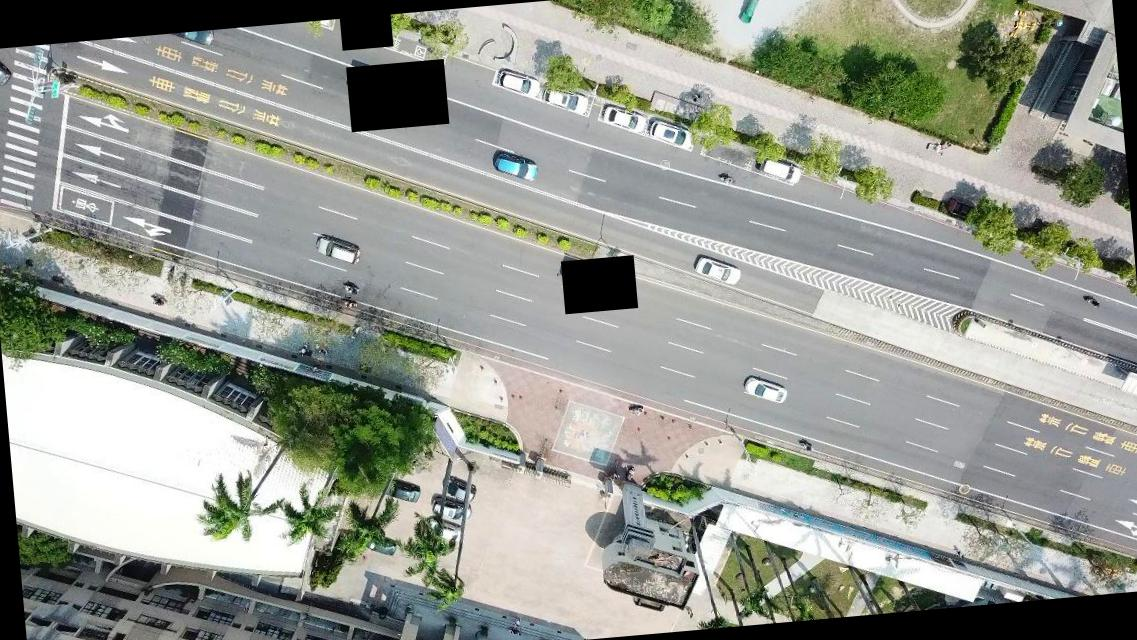vehicle: (694, 251, 738, 288), (598, 102, 645, 136), (646, 116, 692, 150), (742, 372, 786, 407), (758, 153, 802, 188), (492, 148, 534, 184), (544, 82, 588, 116), (315, 232, 358, 266), (496, 68, 538, 99), (428, 496, 470, 524), (425, 516, 465, 545), (440, 474, 476, 506), (168, 30, 214, 54), (382, 480, 422, 506), (360, 537, 399, 560), (0, 47, 12, 89)
